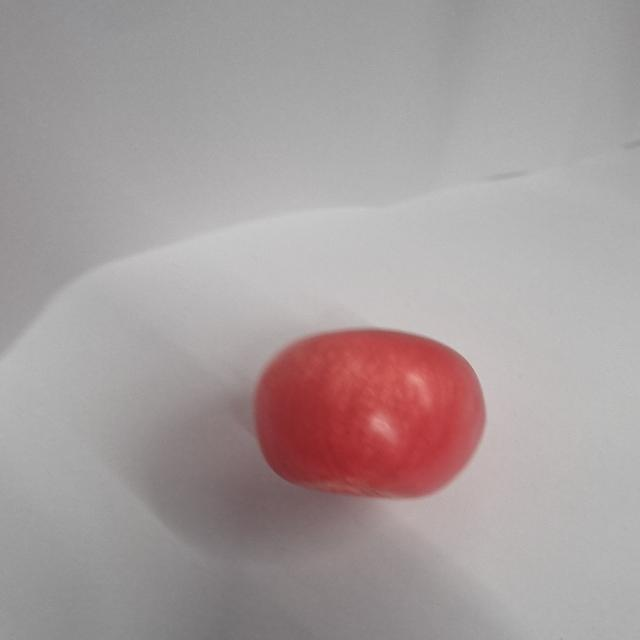apple: (254, 328, 486, 499)
